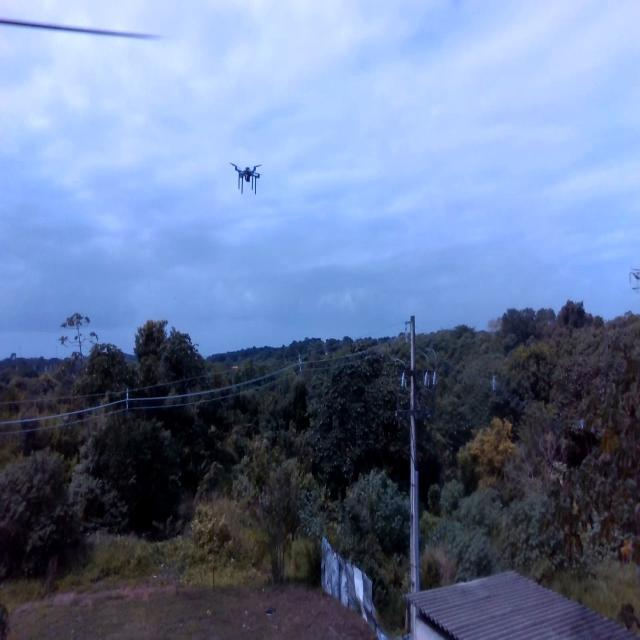-uav-: (225, 153, 267, 201)
